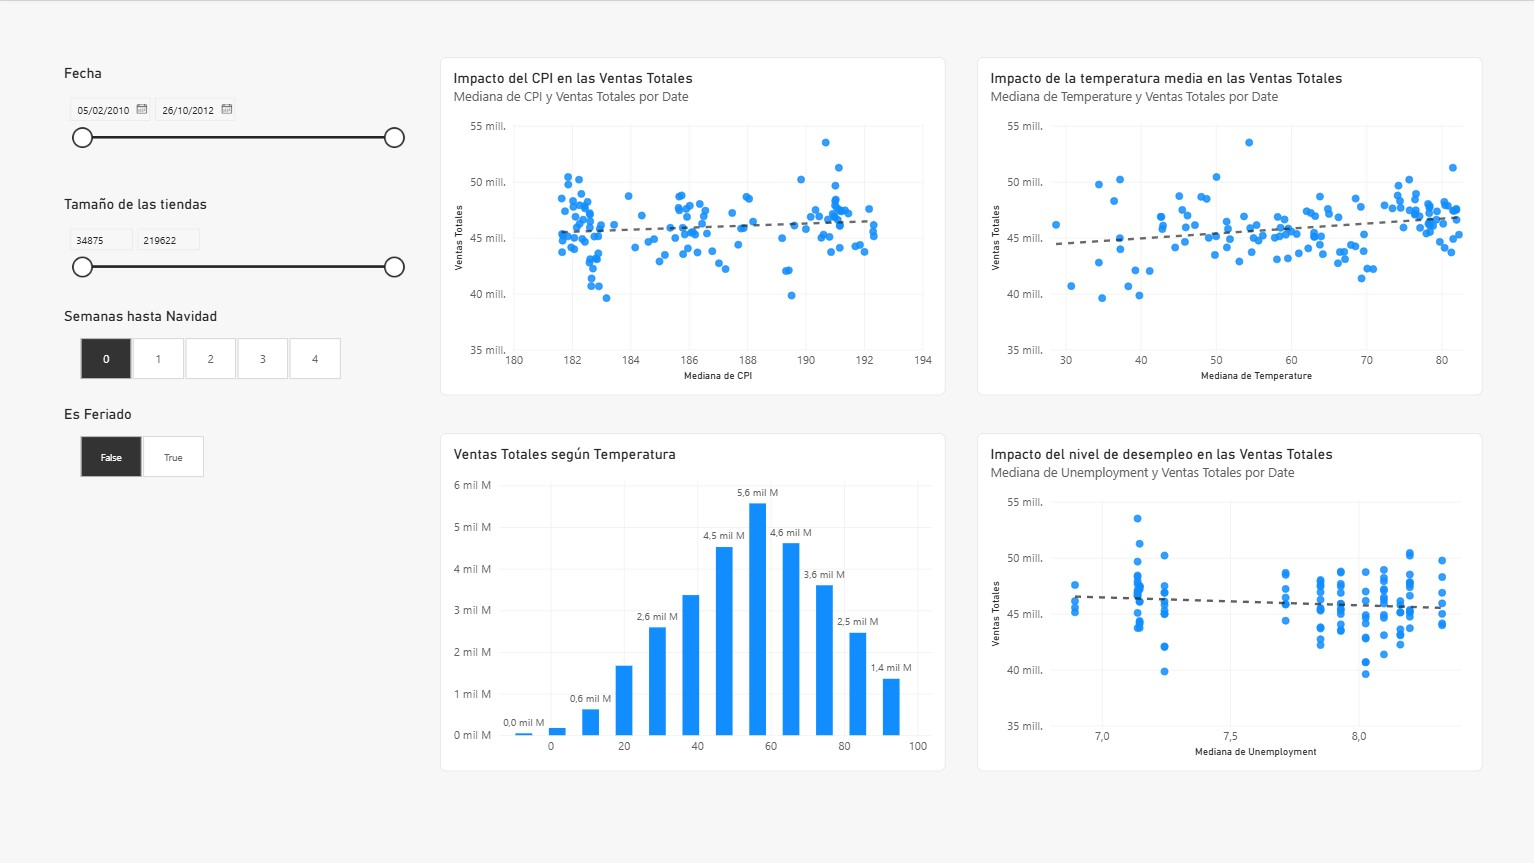

This screenshot's page, from the dashboard's own definition file:
{"tool":"powerbi","page":{"name":"Página 2","canvas":[1920,1080],"ordinal":1},"visuals":[{"type":"scatterChart","title":"Ventas semanales según la temperatura media","fields":{"Category":["train.Date"],"X":["Median(features.Temperature)"],"Y":["Median(train.Weekly_Sales)"]},"box":[1222.2,69.8,632.2,422.8],"z":0},{"type":"scatterChart","title":"Ventas semanales contra nivel de desempleo","fields":{"Category":["train.Date"],"X":["Median(features.Unemployment)"],"Y":["Sum(train.Weekly_Sales)"]},"box":[1222.2,540,632.2,422.8],"z":1},{"type":"scatterChart","fields":{"Category":["train.Date"],"X":["Median(features.CPI)"],"Y":["_Medidas.Ventas Totales"]},"box":[551.9,69.8,632.2,422.8],"z":2},{"type":"slicer","title":"Fecha","fields":{"Values":["Calendario.Date"]},"box":[81.7,79,429.4,130.4],"z":3},{"type":"slicer","title":"Tamaño de las tiendas","fields":{"Values":["stores.Size"]},"box":[81.7,242.3,429.4,126.4],"z":4},{"type":"clusteredColumnChart","fields":{"Category":["features.Temperature (bins)"],"Y":["Sum(train.Weekly_Sales)"]},"box":[551.9,540,632.2,422.8],"z":5},{"type":"slicer","title":"Es Feriado","fields":{"Values":["features.IsHoliday"]},"box":[81.7,504.4,193.6,92.2],"z":6},{"type":"slicer","title":"Semanas hasta Navidad","fields":{"Values":["train.Weeks_Until_Christmas"]},"box":[81.7,382,364.8,92.2],"z":7}]}

Visuals, with their boxes in screenshot pixels (x1, y1, x2, y2), scaled from the page's 1920x1080 canvas onto the 1534x863 screenshot:
"Ventas semanales según la temperatura media" scatterChart: box(976, 56, 1482, 394)
"Ventas semanales contra nivel de desempleo" scatterChart: box(976, 432, 1482, 769)
scatterChart - train.Date x Median(features.CPI): box(441, 56, 946, 394)
"Fecha" slicer: box(65, 63, 408, 167)
"Tamaño de las tiendas" slicer: box(65, 194, 408, 295)
clusteredColumnChart - features.Temperature (bins) x Sum(train.Weekly_Sales): box(441, 432, 946, 769)
"Es Feriado" slicer: box(65, 403, 220, 477)
"Semanas hasta Navidad" slicer: box(65, 305, 357, 379)
